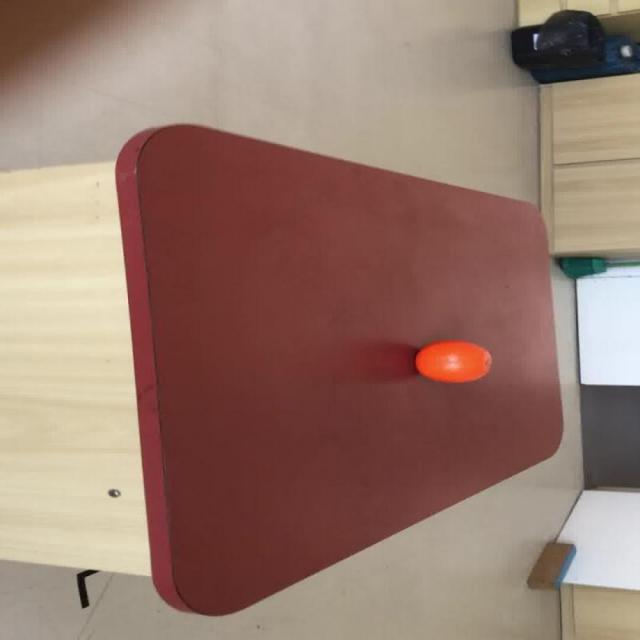Orange: (412, 339, 492, 383)
